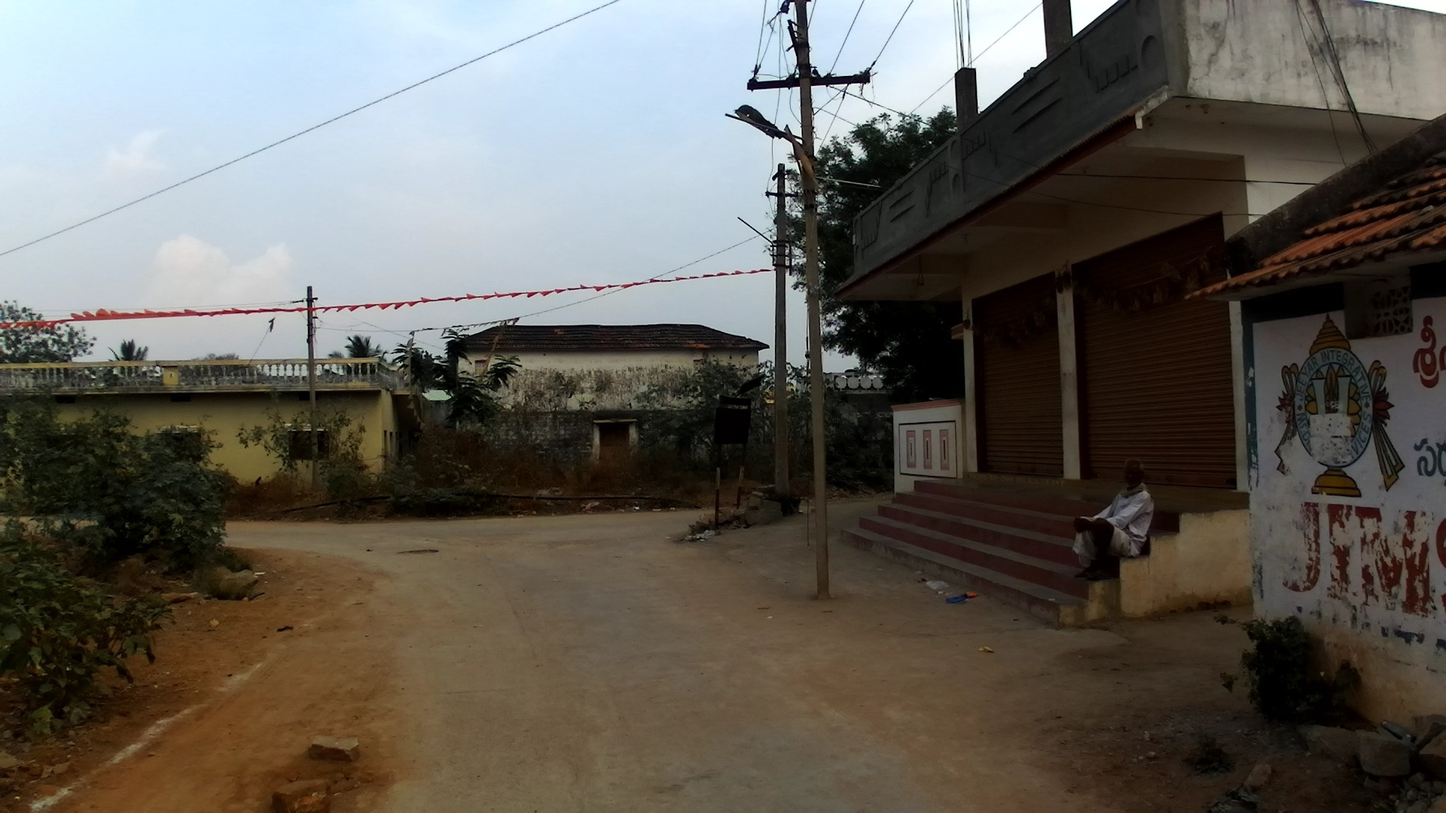person: (1066, 456, 1157, 577)
